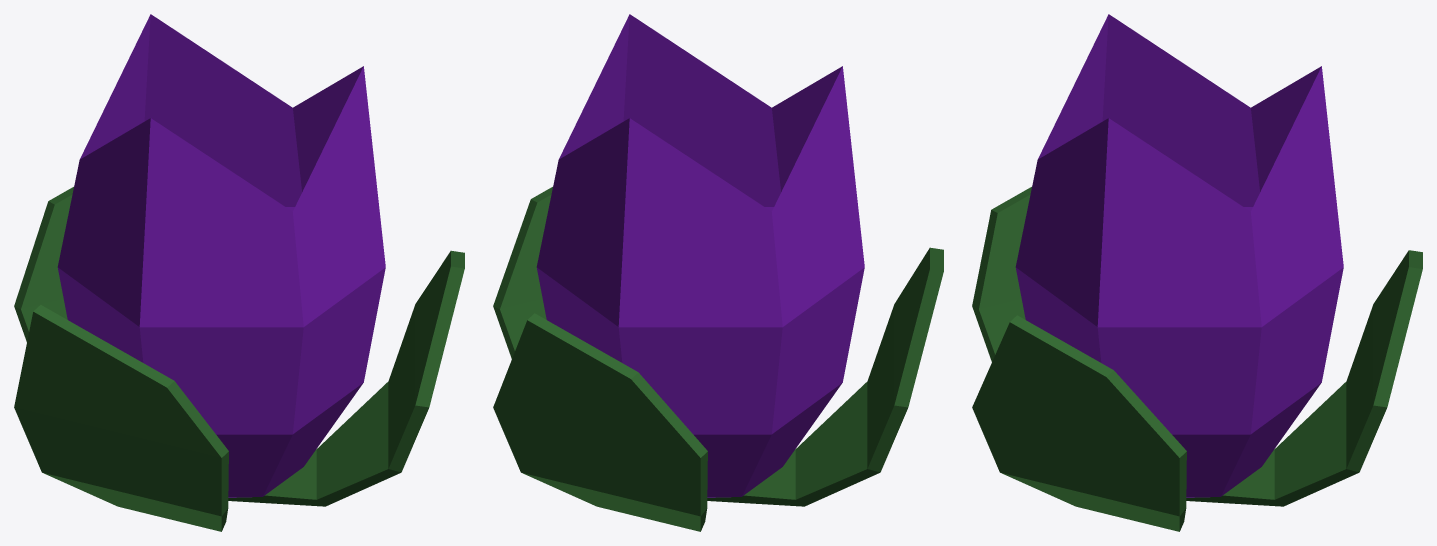
The model's file is flower03.fbx.
The picture shows the model from 3 angles, left to right: view 1: azimuth 30°, elevation 25°; view 2: azimuth 150°, elevation 25°; view 3: azimuth 270°, elevation 25°; orthographic projection.
Visible parts, largest first — view 1: flower03; view 2: flower03; view 3: flower03.
Boxes of the visible parts, x1,y1,x2,y2 form: flower03: (14, 14, 464, 531); flower03: (493, 14, 943, 531); flower03: (972, 14, 1422, 531).
Size of the model in its own units: 34.16 by 33.49 by 31.49.
